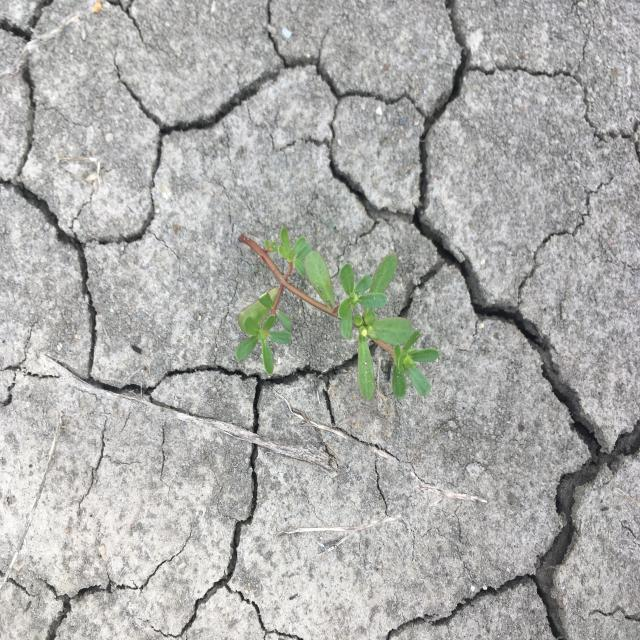Purslane: (234, 224, 441, 404)
